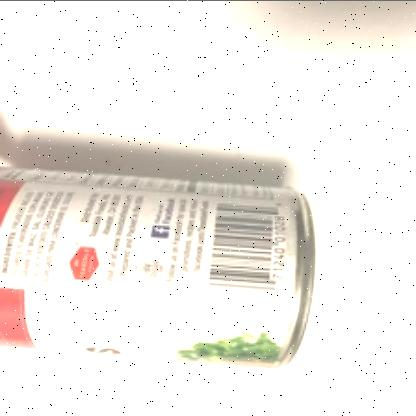Can: (0, 163, 315, 369)
